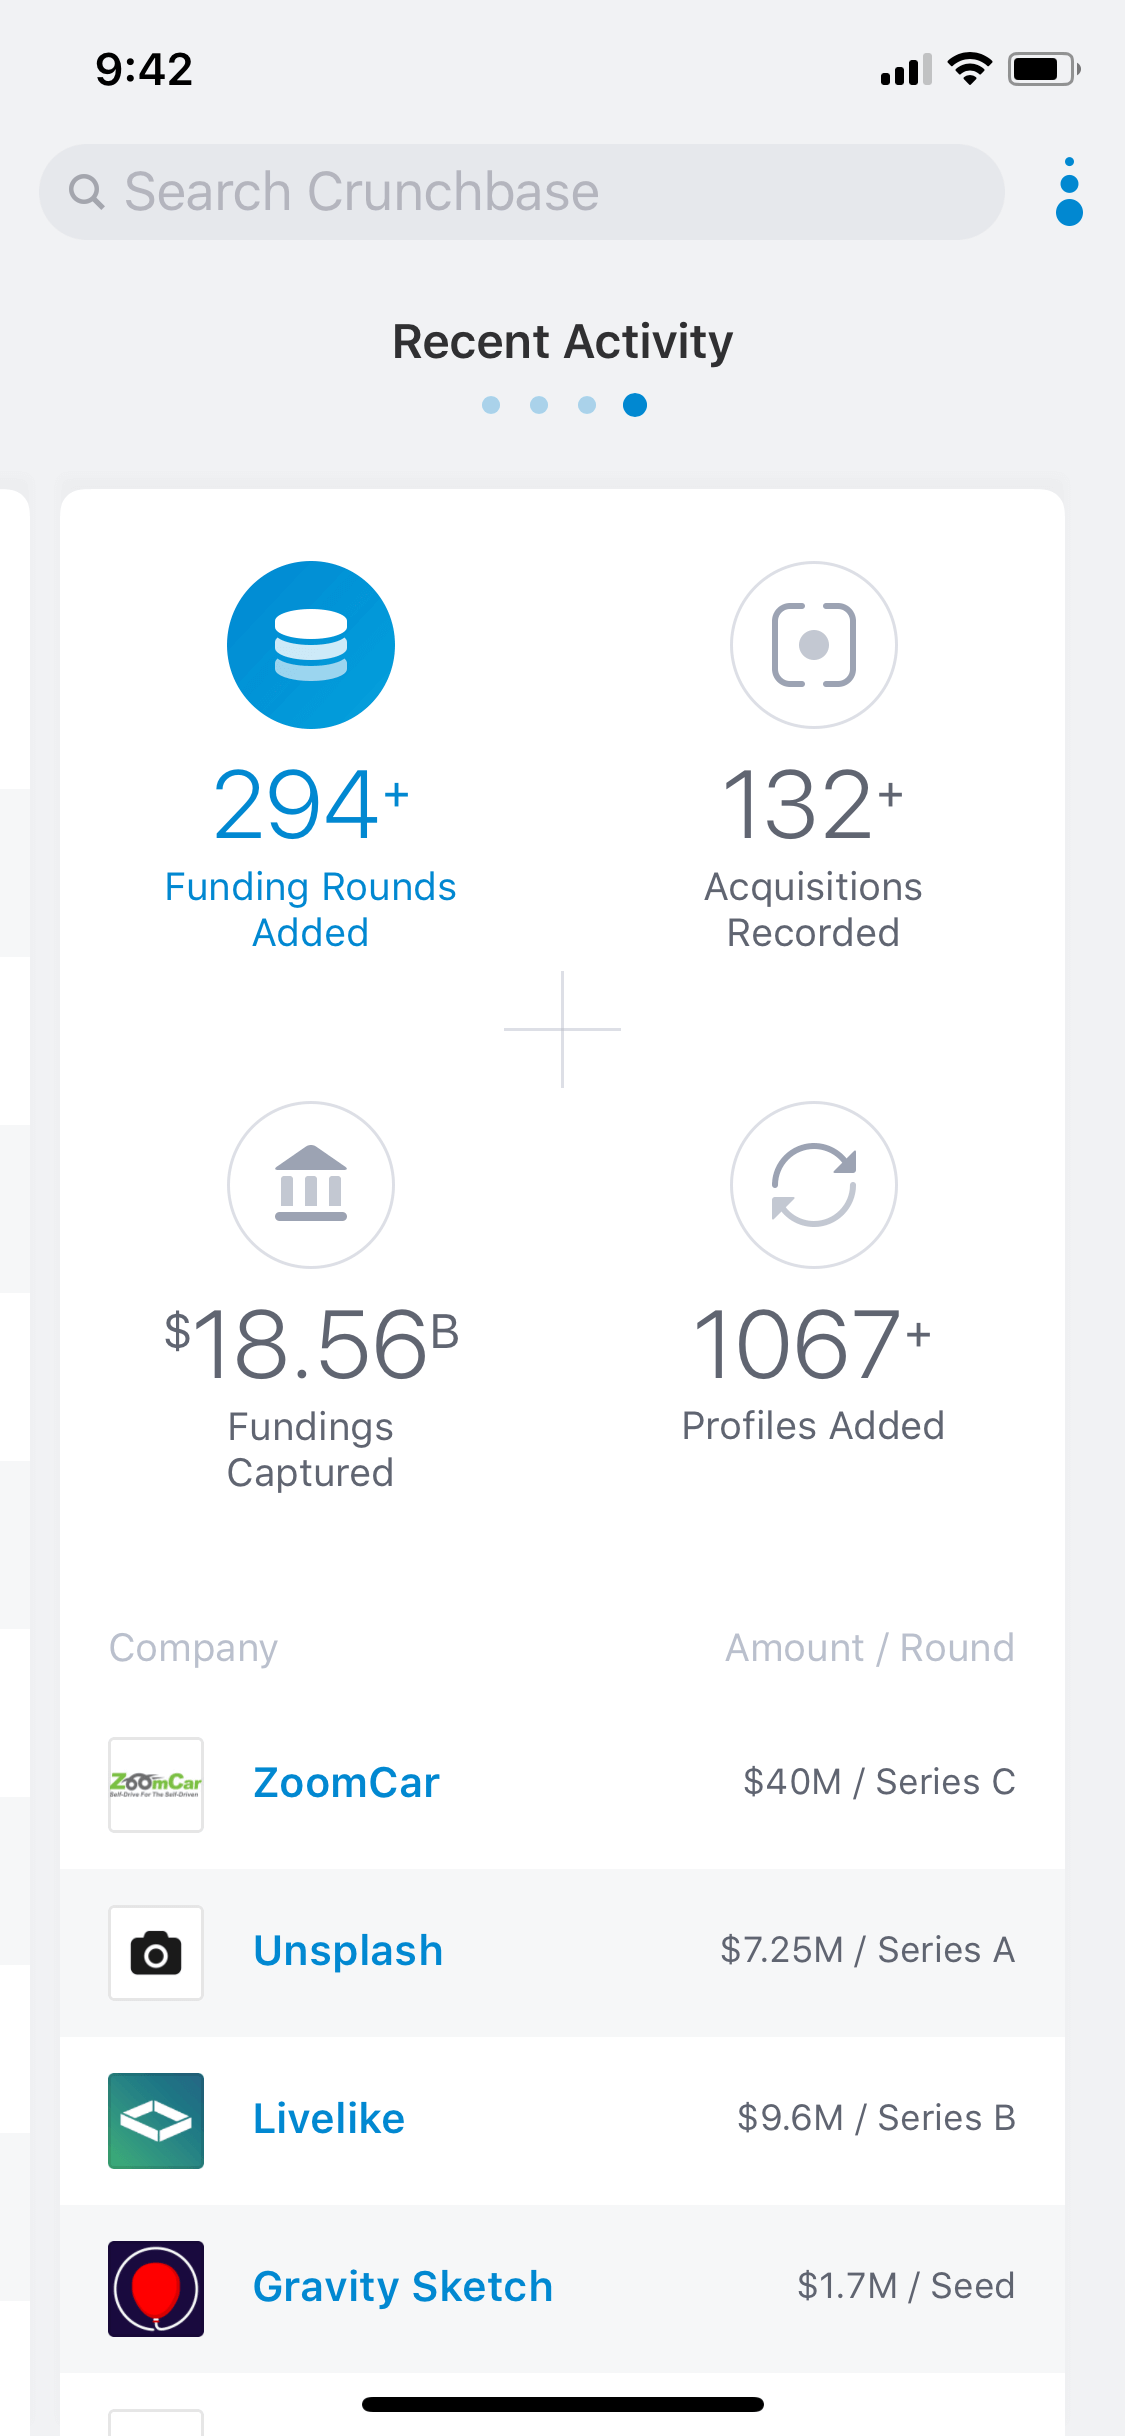Buttons: (1029, 126, 1125, 249)
Page Controls: (426, 370, 705, 444)
